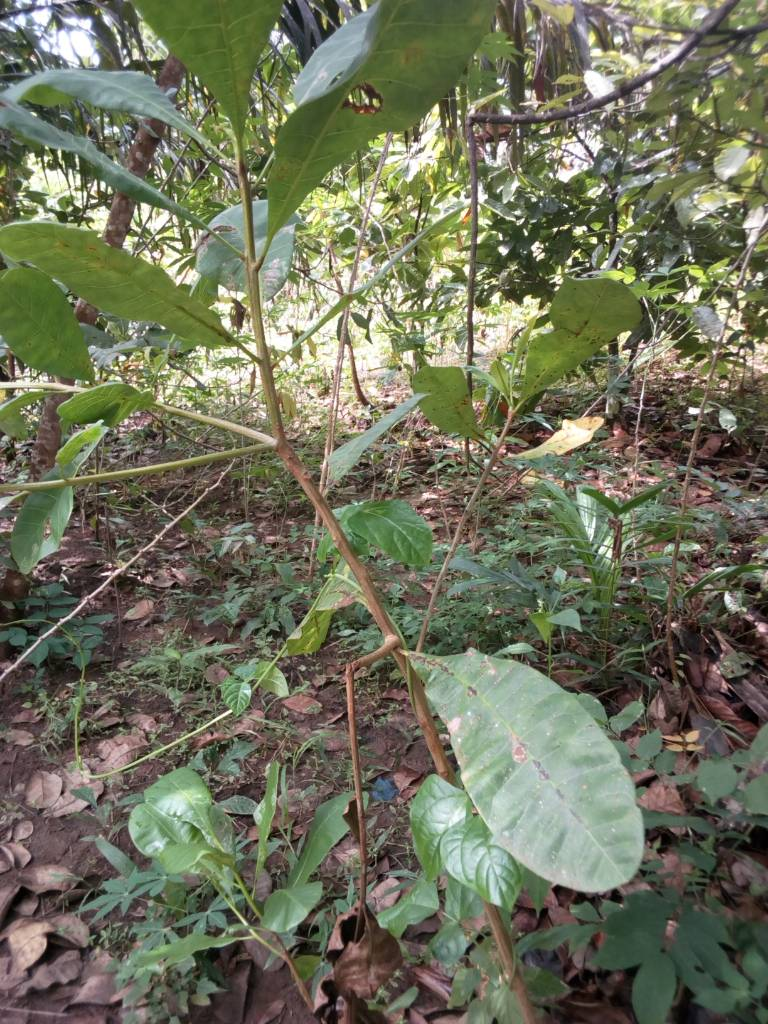Anthracnose: (405, 653, 641, 894)
